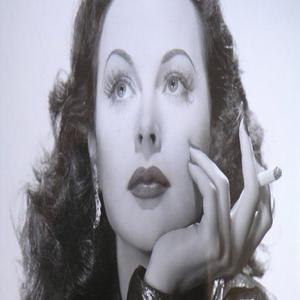cigarette: (256, 167, 284, 184)
